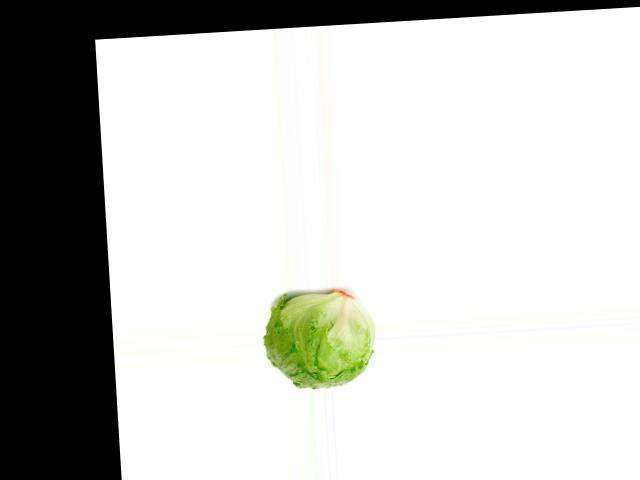lettuce: (262, 290, 372, 392)
